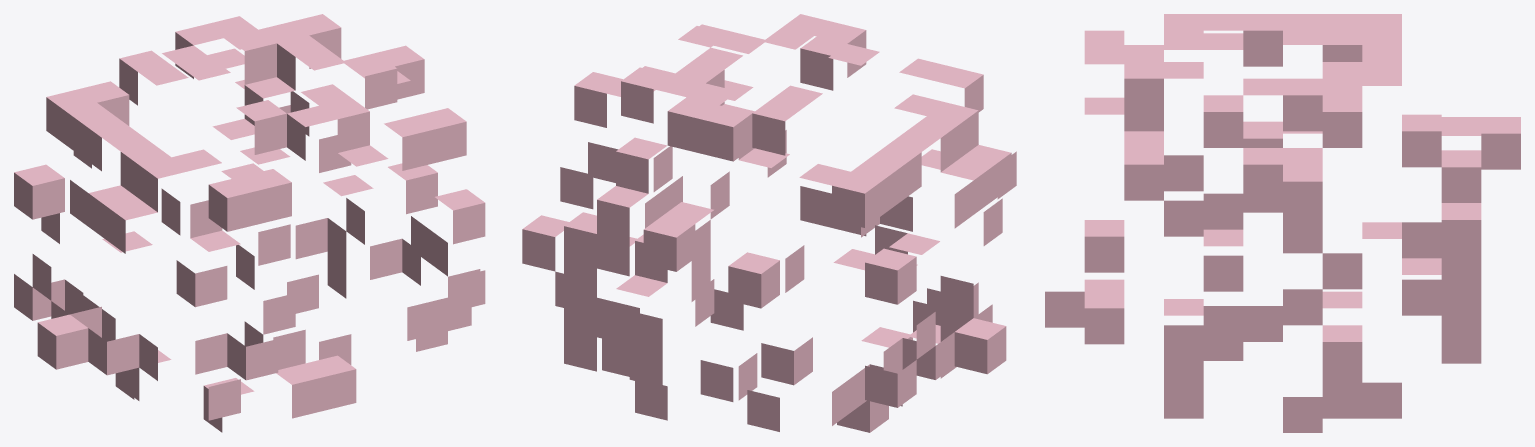
File: tree-cherry-1-pink1-f9c6d6.gltf
3 renders of one model, left to right at view 1: azimuth 30°, elevation 25°; view 2: azimuth 150°, elevation 25°; view 3: azimuth 270°, elevation 25°, orthographic. The views are drawn at different scales.
Visible parts, largest first — view 1: tree-cherry-1-pink1-f9c6d6; view 2: tree-cherry-1-pink1-f9c6d6; view 3: tree-cherry-1-pink1-f9c6d6.
Boxes of the visible parts, x1,y1,x2,y2 form: tree-cherry-1-pink1-f9c6d6: [14, 14, 485, 432]; tree-cherry-1-pink1-f9c6d6: [522, 14, 1016, 432]; tree-cherry-1-pink1-f9c6d6: [1045, 14, 1520, 432].
Size of the model in its own units: 13 by 9 by 12.
